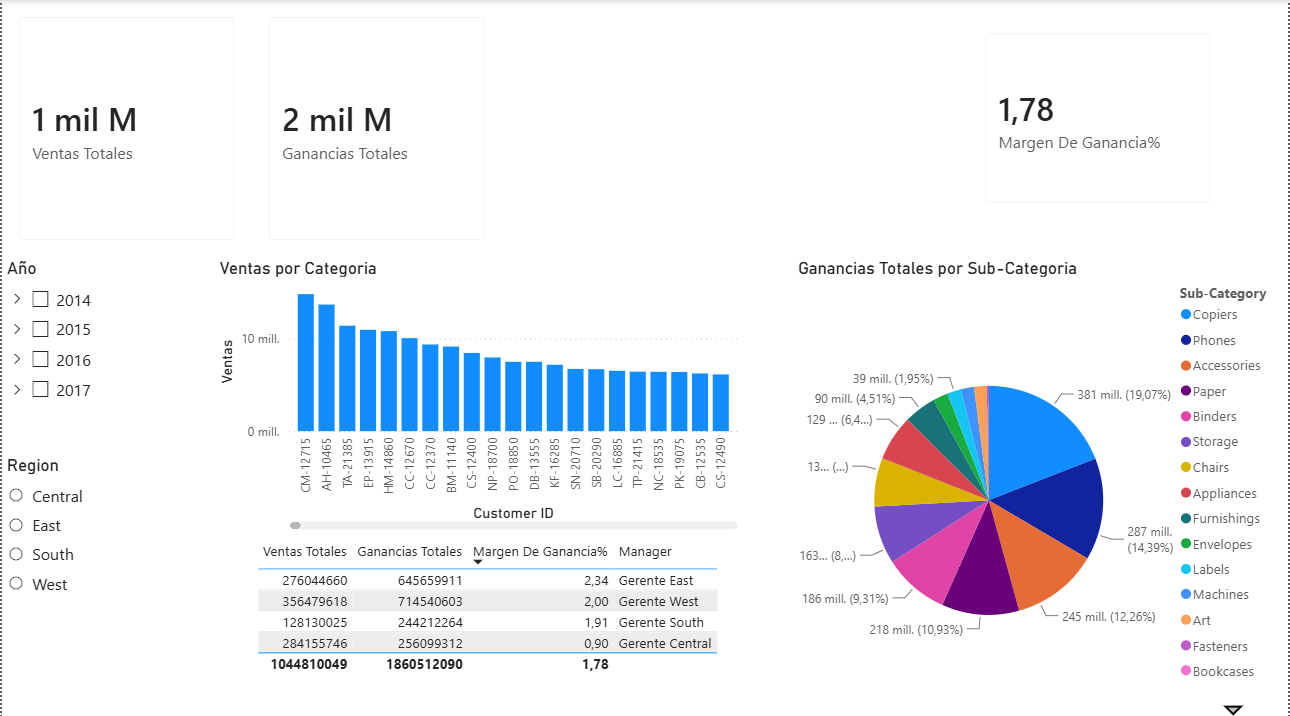

What the dashboard file says about the page in this screenshot:
{"tool":"powerbi","page":{"name":"Página 1","canvas":[1280,720],"ordinal":0},"visuals":[{"type":"cardVisual","fields":{"Data":["Sample - Superstore.Ventas Totales"]},"box":[0,0,248.4,256.5],"z":0},{"type":"cardVisual","fields":{"Data":["Sample - Superstore.Ganancias Totales"]},"box":[248.4,0,248.4,256.5],"z":1000},{"type":"cardVisual","fields":{"Data":["Sample - Superstore.Margen De Ganancia%"]},"box":[961.3,16.1,258.1,203.2],"z":2000},{"type":"clusteredColumnChart","title":"Ventas por Categoria","fields":{"Category":["DimCustomer.Customer ID"],"Y":["Sum(Sample - Superstore.Sales)"]},"box":[211.3,256.5,525.8,275.8],"z":3000},{"type":"tableEx","fields":{"Values":["Sample - Superstore.Ventas Totales","Sample - Superstore.Ganancias Totales","Sample - Superstore.Margen De Ganancia%","DimRegion.Manager"]},"box":[248.4,532.3,477.4,187.1],"z":3001},{"type":"listSlicer","fields":{"Values":["Sample - Superstore.Order Date.Variación.Jerarquía de fechas.Año","Sample - Superstore.Order Date.Variación.Jerarquía de fechas.Trimestre","Sample - Superstore.Order Date.Variación.Jerarquía de fechas.Mes","Sample - Superstore.Order Date.Variación.Jerarquía de fechas.Día"]},"box":[0,256.5,211.3,275.8],"z":3002},{"type":"pieChart","title":"Ganancias Totales por Sub-Categoria","fields":{"Category":["Sample - Superstore.Sub-Category"],"Y":["Sample - Superstore.Ganancias Totales"]},"box":[787.1,256.5,493.5,462.9],"z":3003},{"type":"listSlicer","fields":{"Values":["DimRegion.Region"]},"box":[0,453.2,211.3,266.1],"z":3004}]}

Visuals, with their boxes in screenshot pixels (x1, y1, x2, y2), scaled from the page's 1280x720 canvas onto the 1290x716 screenshot:
cardVisual - Sample - Superstore.Ventas Totales: [left=0, top=0, right=250, bottom=255]
cardVisual - Sample - Superstore.Ganancias Totales: [left=250, top=0, right=501, bottom=255]
cardVisual - Sample - Superstore.Margen De Ganancia%: [left=969, top=16, right=1229, bottom=218]
"Ventas por Categoria" clusteredColumnChart: [left=213, top=255, right=743, bottom=529]
tableEx - Sample - Superstore.Ventas Totales x Sample - Superstore.Ganancias Totales: [left=250, top=529, right=731, bottom=715]
listSlicer - Sample - Superstore.Order Date.Variación.Jerarquía de fechas.Año x Sample - Superstore.Order Date.Variación.Jerarquía de fechas.Trimestre: [left=0, top=255, right=213, bottom=529]
"Ganancias Totales por Sub-Categoria" pieChart: [left=793, top=255, right=1289, bottom=715]
listSlicer - DimRegion.Region: [left=0, top=451, right=213, bottom=715]
